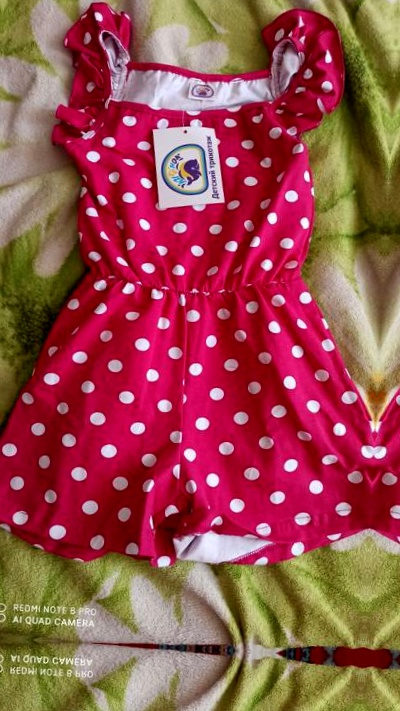Dress: (0, 0, 399, 597), (366, 0, 400, 617), (0, 699, 360, 711)
